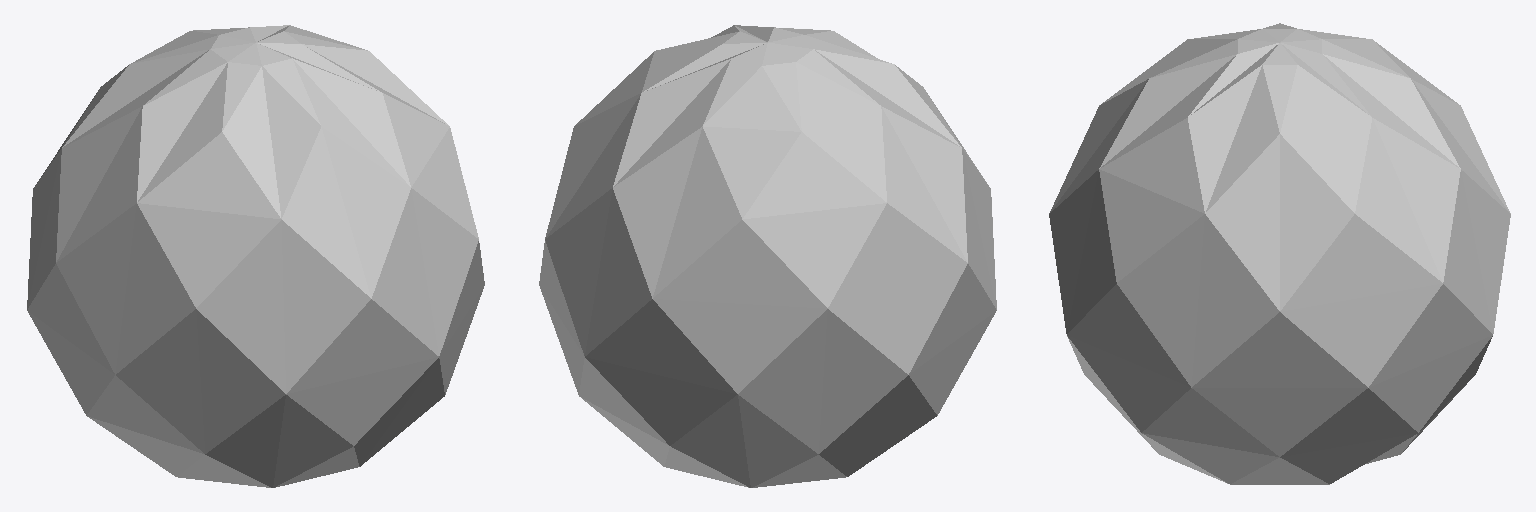
Rendered from skyDome.obj.
3 renders of one model, left to right at view 1: azimuth 30°, elevation 25°; view 2: azimuth 150°, elevation 25°; view 3: azimuth 270°, elevation 25°, orthographic.
Visible parts, largest first — view 1: Sphere; view 2: Sphere; view 3: Sphere.
Part boxes in pixels (x1,y1,x2,y2): Sphere: (27, 25, 484, 487); Sphere: (539, 25, 996, 487); Sphere: (1049, 23, 1510, 484).
Bounding box in the file's own units: 3.92 × 4 × 3.92.